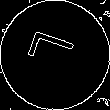L_E: (26, 32, 84, 78)
